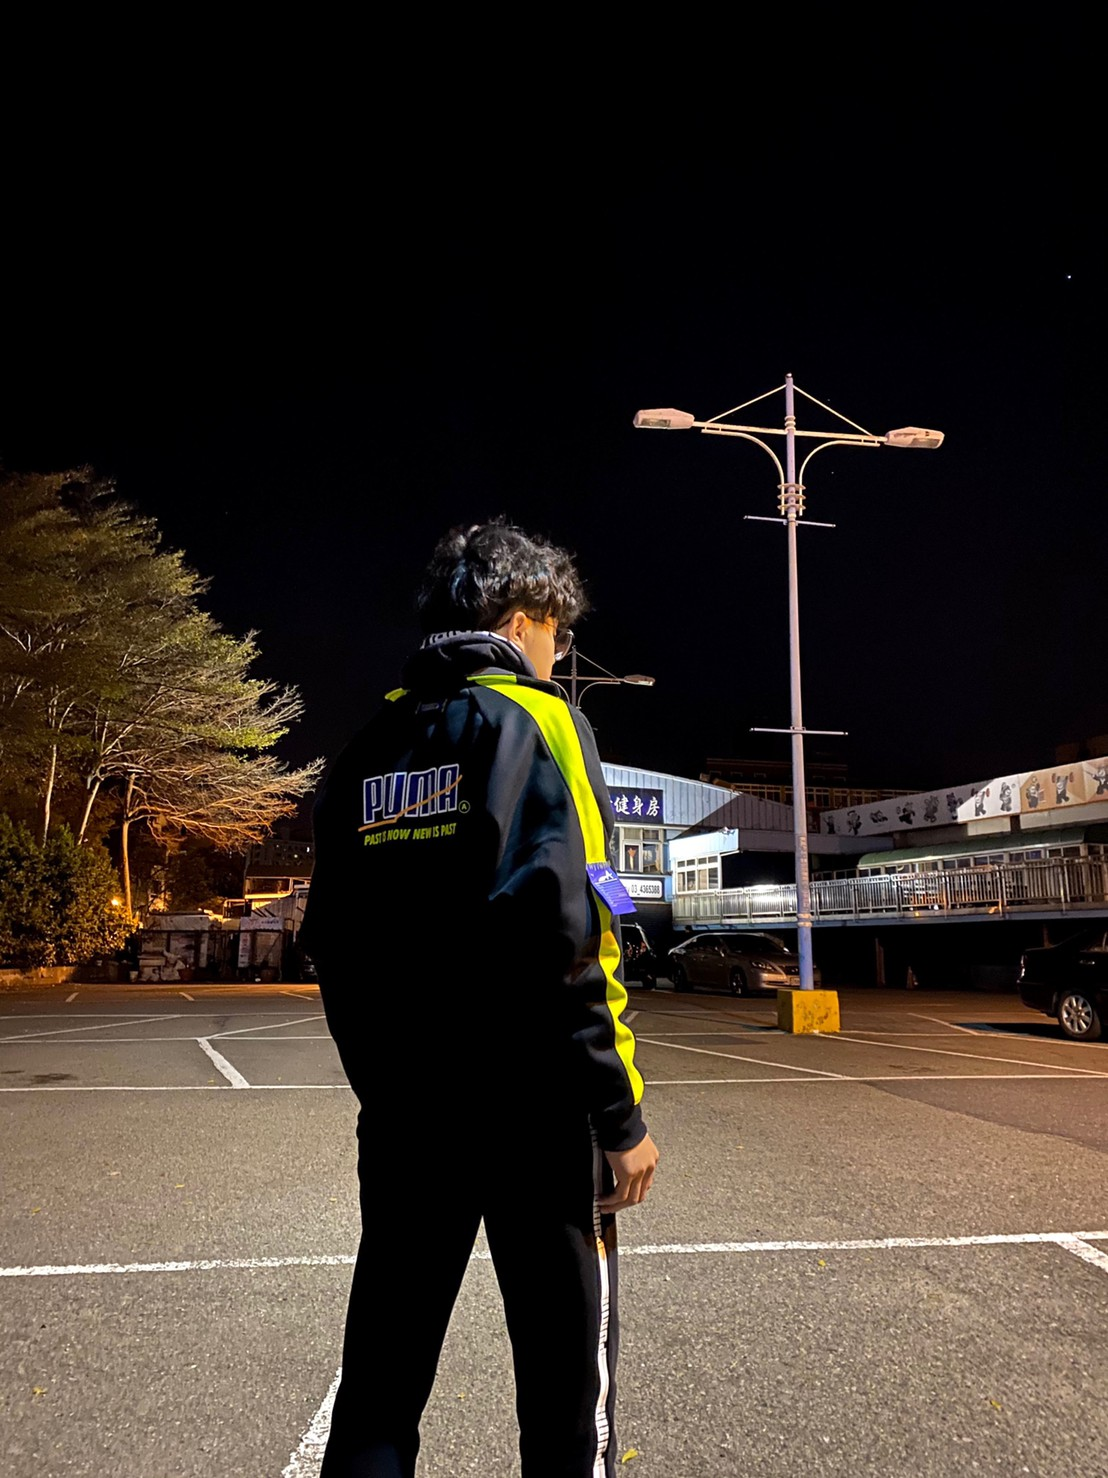people: (359, 512, 647, 1478)
